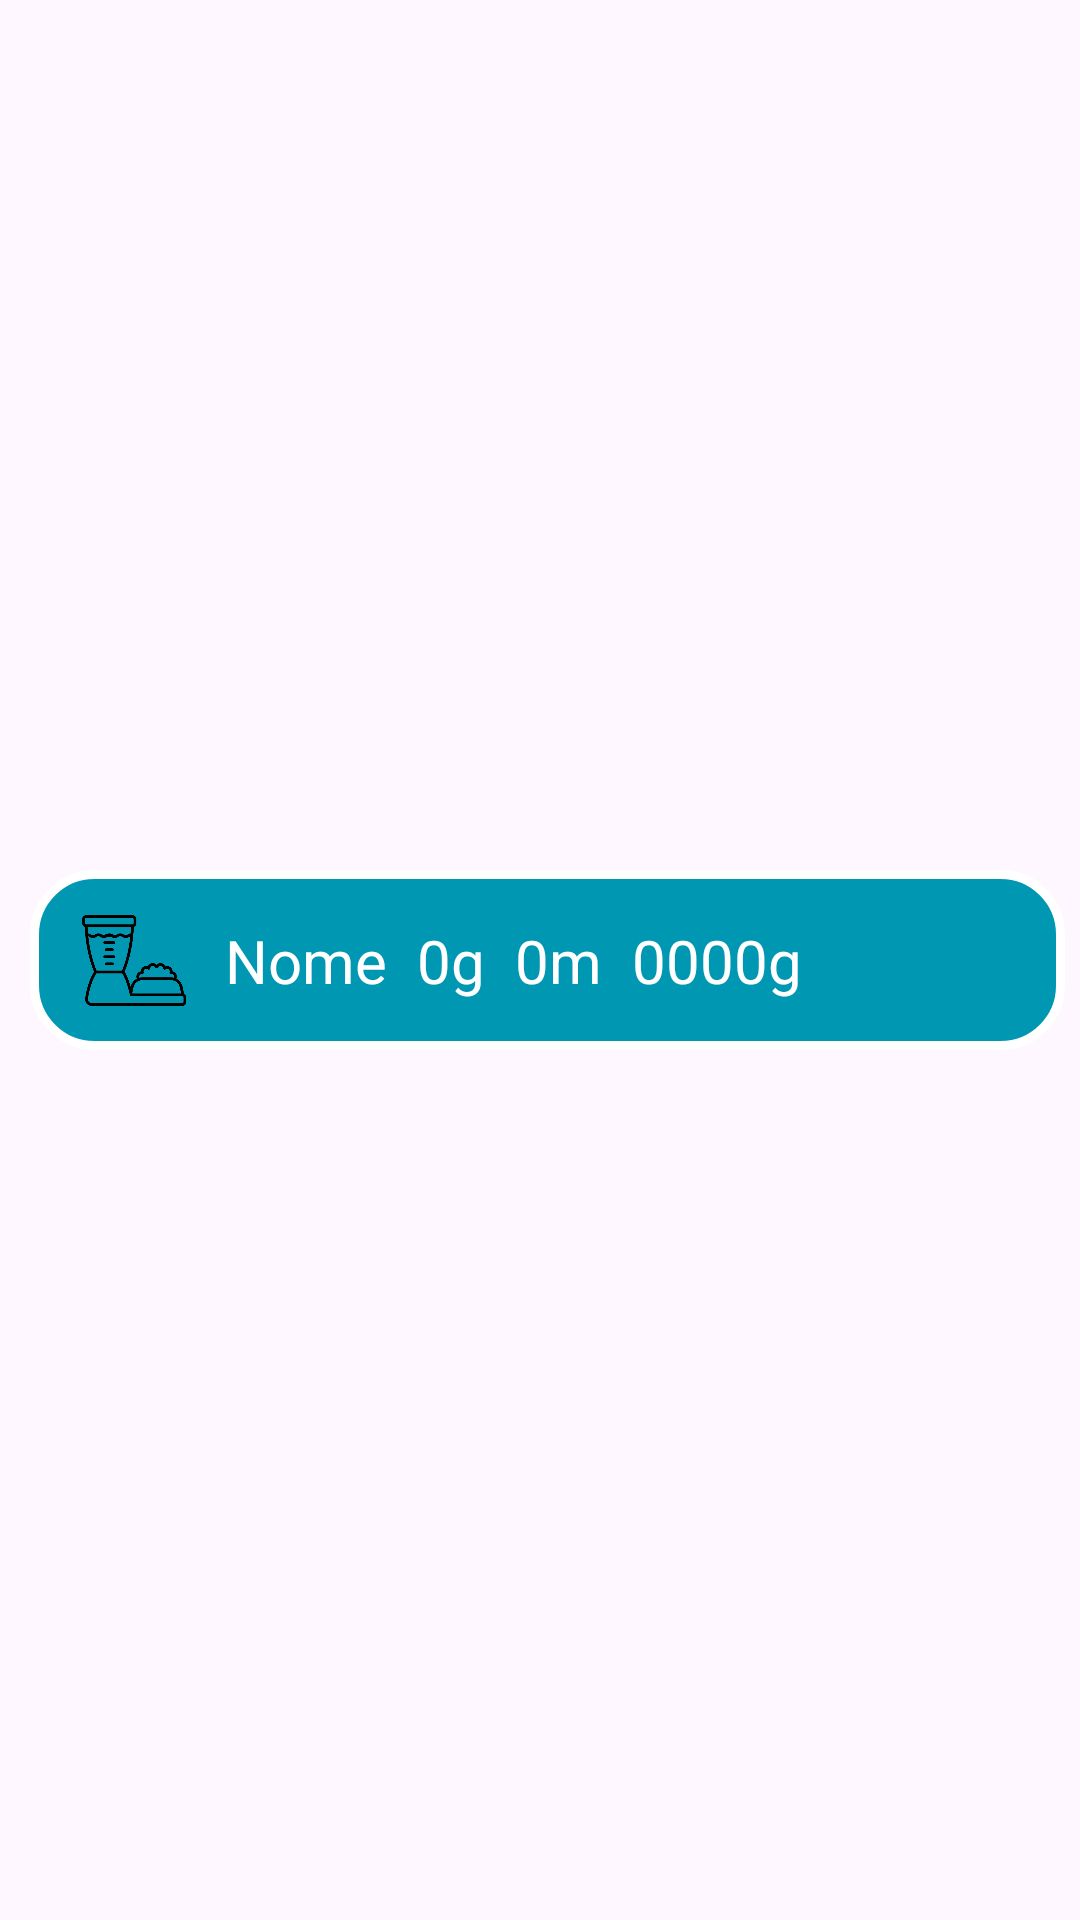

Icons on this 1080px×1920px Android screen, each with the point to tap as [x,y]:
dispositivos: [134,960]
